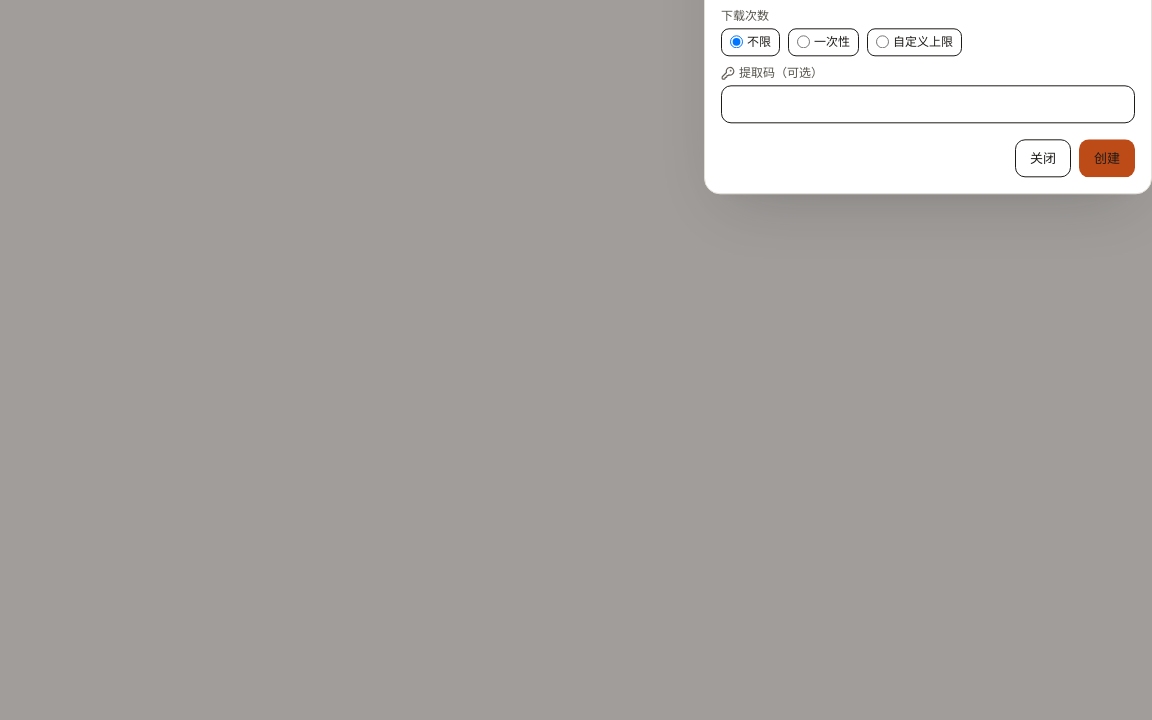
createShare reject 时显示错误提示
The width and height of the screenshot is (1152, 720).
Click the button "创建": x=1107, y=159 [1079,140,1135,178]
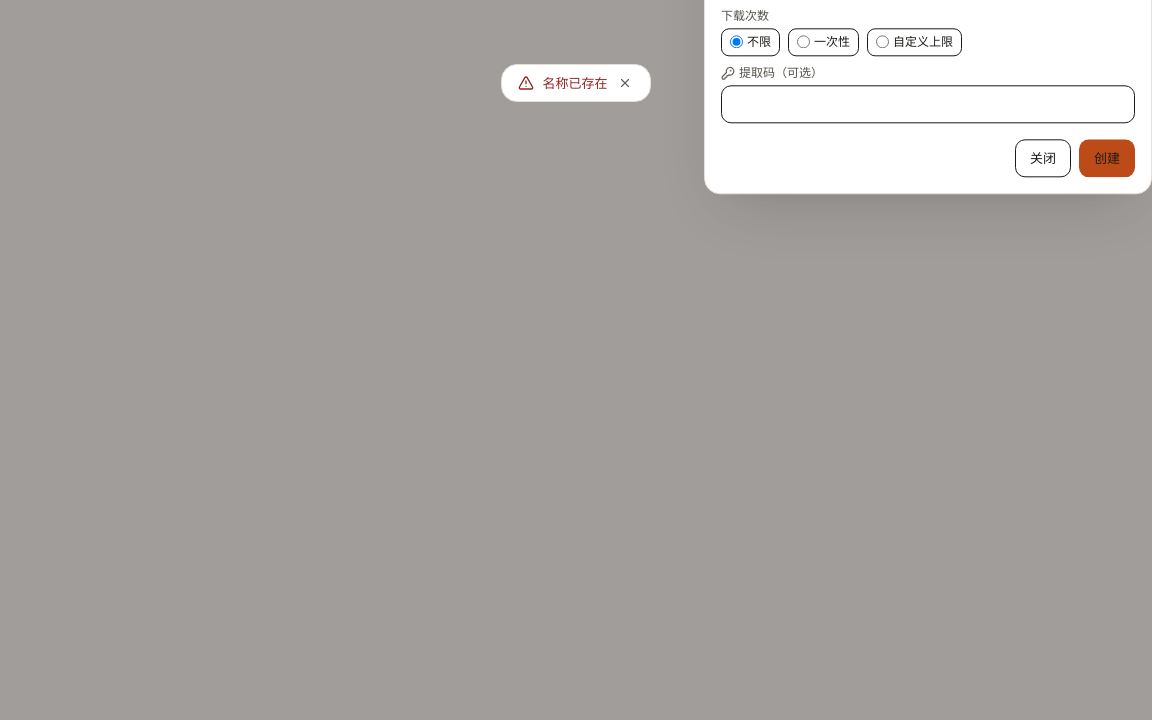
Expected: the text "名称已存在" is shown, [542,73,608,93]
